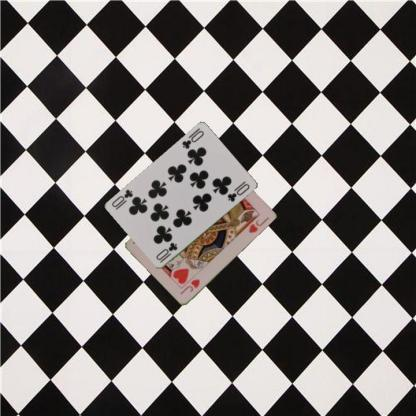10c: (154, 240, 178, 264), (179, 128, 205, 150)
Jh: (177, 277, 201, 296)
